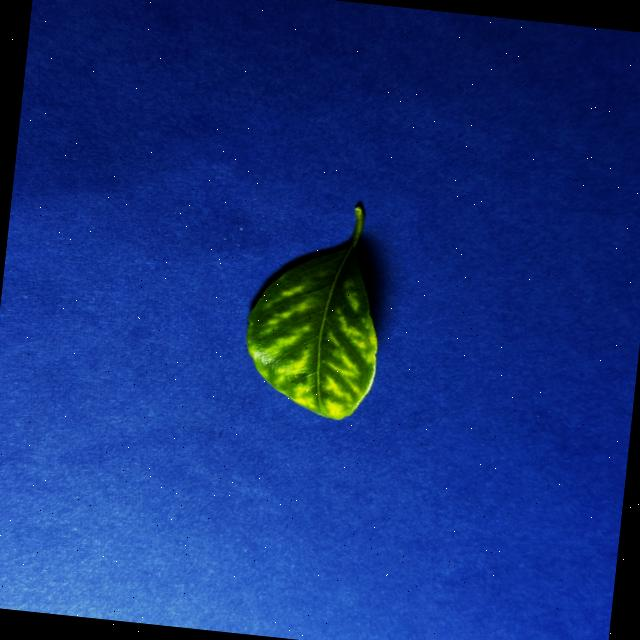greening: (247, 204, 377, 419)
